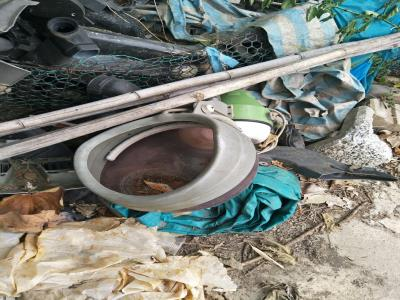plastic_bag: (4, 217, 234, 299), (162, 1, 338, 51), (259, 63, 366, 144), (211, 171, 306, 234)
